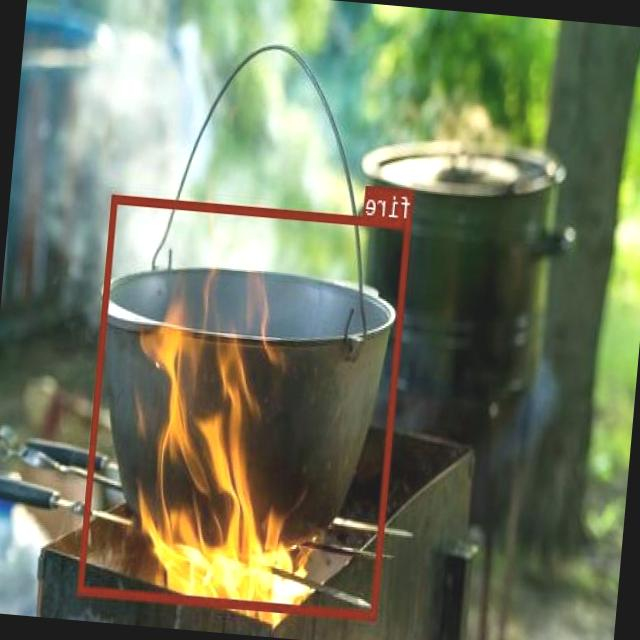fire: (78, 192, 412, 620)
